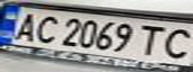0: (75, 17, 100, 51)
2: (54, 15, 84, 47)
6: (93, 19, 118, 52)
9: (112, 20, 139, 54)
A: (6, 10, 42, 42)
C: (154, 25, 193, 61), (27, 12, 63, 45)
T: (133, 22, 175, 56)
